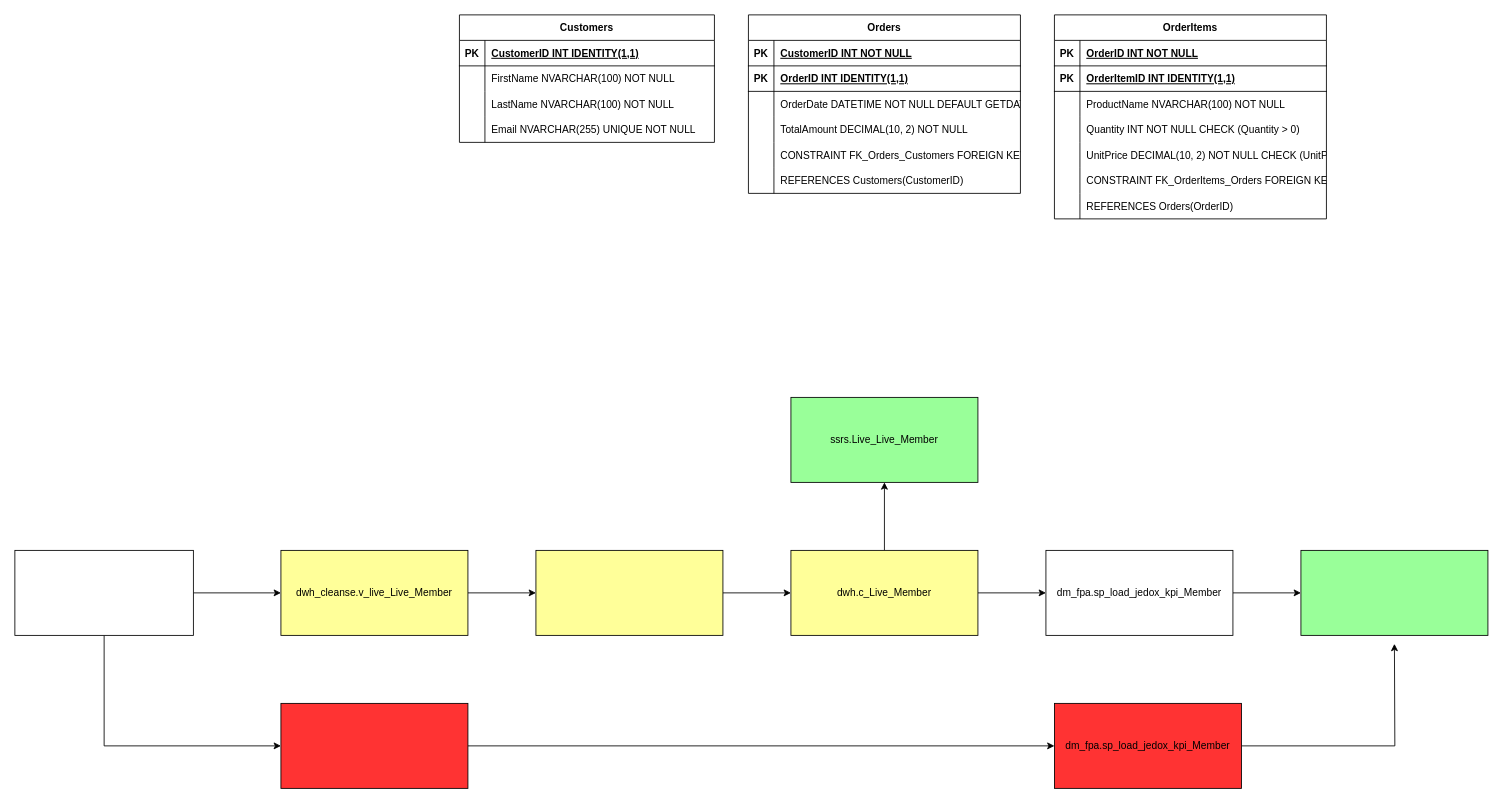
Image size: 1503x803. Some labels were removed from this diagram. The centre of each missing label's shape, as x and y in pixels:
"cdc_ml.contract etc." belongs at pixel 103 592.
"dm_fpa.jedox_kpi" belongs at pixel 1394 592.
"dwh.Live_Member" belongs at pixel 629 592.
"dwh_cleanse.v_live_Live_Member_kpi" belongs at pixel 374 745.
